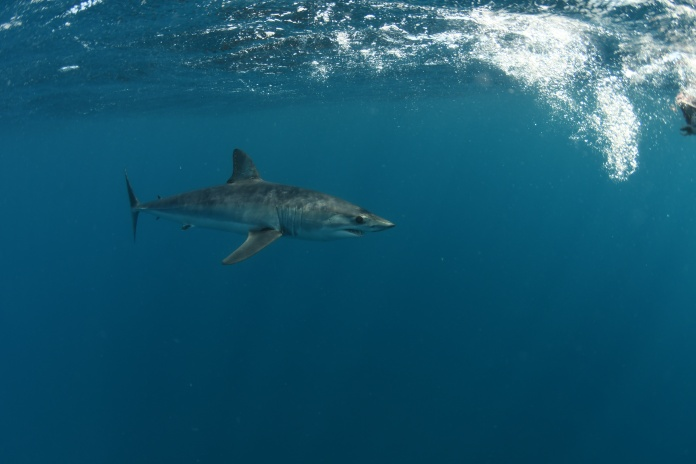Mako: (116, 143, 397, 272)
